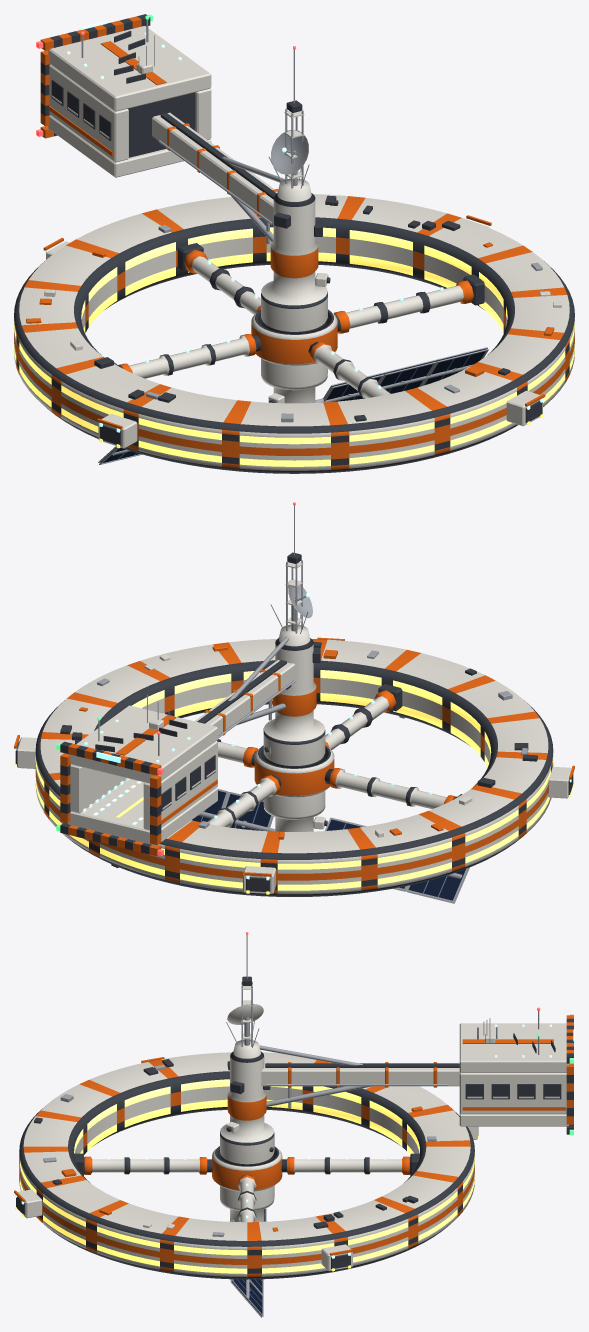
Rendered from space_station.glb.
3 views of the same model, one above another, from view 1: azimuth 30°, elevation 25°; view 2: azimuth 150°, elevation 25°; view 3: azimuth 270°, elevation 25° (orthographic). The views are drawn at different scales.
Parts seen in each view (by area): view 1: Ring, Station; view 2: Ring, Station; view 3: Ring, Station.
Boxes of the visible parts, left/top/right/bottom form: Ring: left=14, top=194, right=574, bottom=473; Station: left=36, top=14, right=488, bottom=464; Ring: left=14, top=637, right=574, bottom=896; Station: left=56, top=502, right=469, bottom=903; Ring: left=14, top=1052, right=479, bottom=1279; Station: left=220, top=932, right=574, bottom=1317.
Size of the model in its own units: 154 by 121 by 185.
